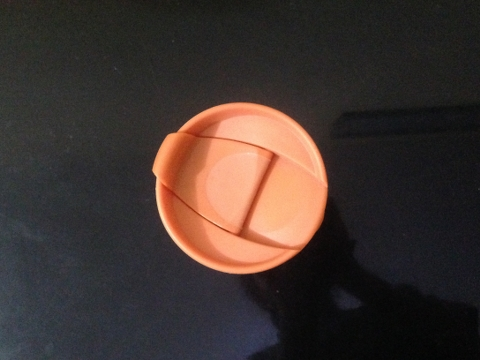tempat minum: (152, 101, 329, 275)
